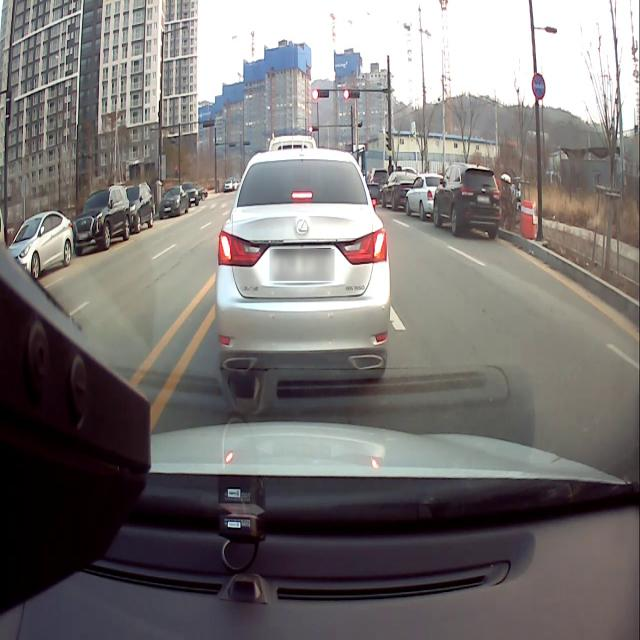Red Light: (312, 89, 319, 99), (344, 89, 349, 99), (309, 126, 313, 133)
